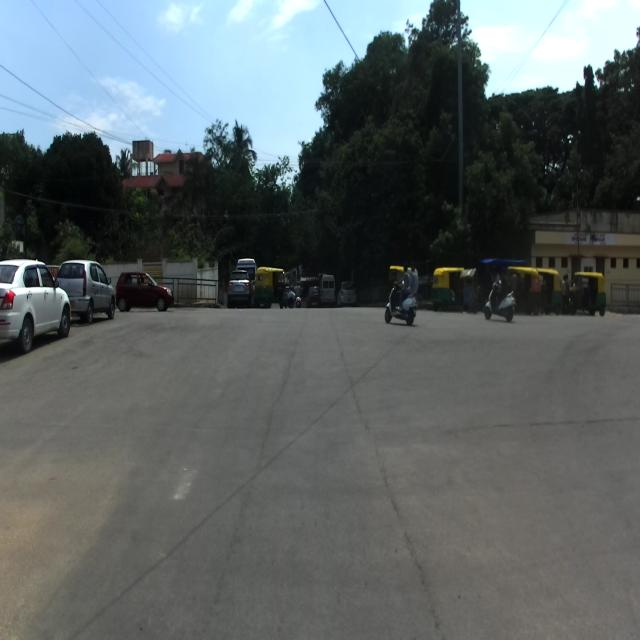car ahead at: (0, 254, 76, 369), (76, 254, 113, 322)
motorcycle ahead at: (385, 266, 421, 326)
